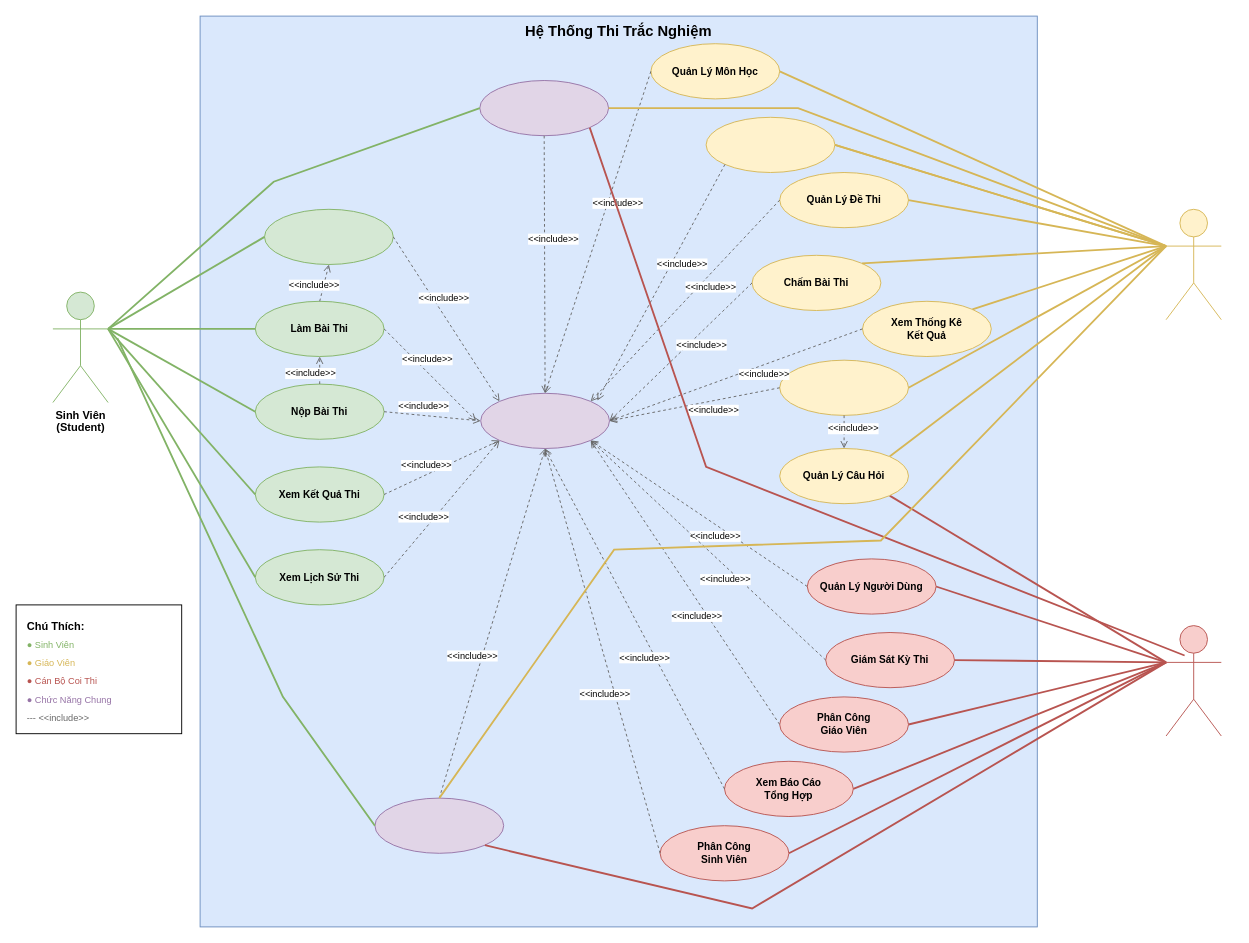
The diagram is 1249 pixels wide and 943 high, and some of its shapes have lost their labels. The shapes that lost their labels are listed below. From the top down, each one's centre as x and y in pixels, then its label:
At [544,108]: "Cập Nhật Thông Tin".
At [770,144]: "Quản Lý Chương".
At [328,236]: "Xem Danh Sách Đề Thi".
At [1193,264]: "Giáo Viên (Teacher)".
At [843,387]: "Tạo Đề Thi".
At [545,420]: "Đăng Nhập".
At [1193,680]: "Cán Bộ Coi Thi (Supervisor)".
At [439,825]: "Đổi Mật Khẩu".
